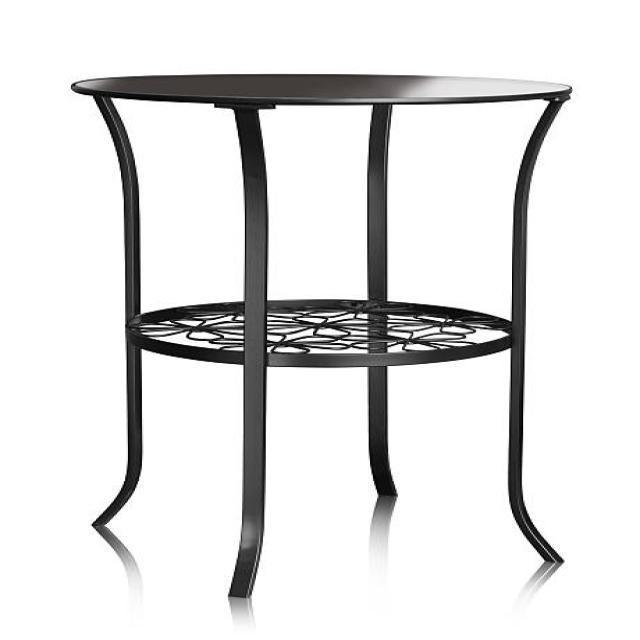table: (69, 72, 572, 596)
